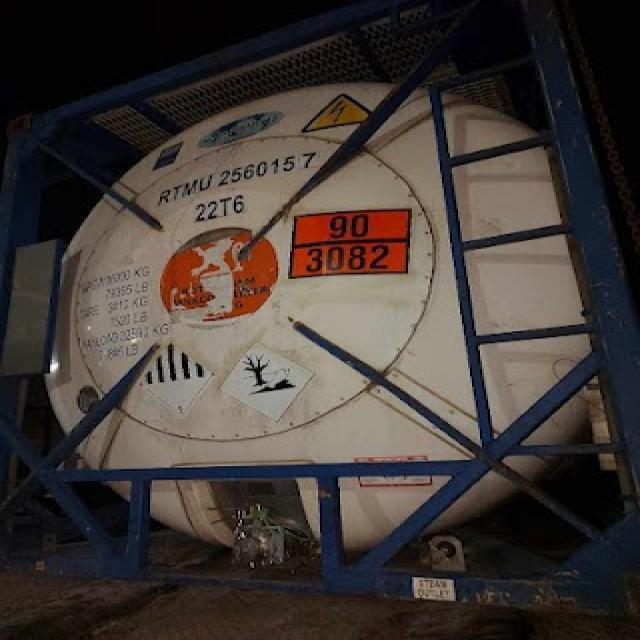ISO: (193, 196, 248, 218)
container_number: (156, 146, 322, 210)
